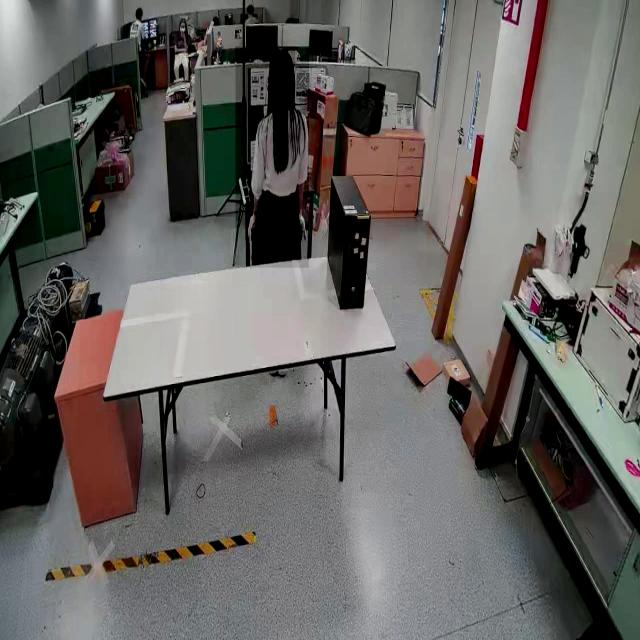face_mask: (179, 23, 187, 37)
hand_glove: (245, 210, 257, 242), (296, 209, 310, 236)
head_nohelmet: (269, 49, 295, 68), (136, 6, 144, 14), (180, 16, 188, 23)
person: (235, 46, 309, 268), (172, 15, 194, 82)
